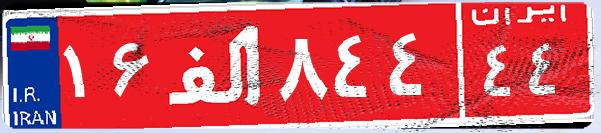1: (57, 26, 110, 107)
4: (385, 28, 445, 110), (330, 28, 385, 110), (475, 38, 525, 113), (525, 38, 570, 115)
6: (110, 28, 158, 105)
8: (273, 28, 330, 110)
الف: (158, 15, 273, 115)
